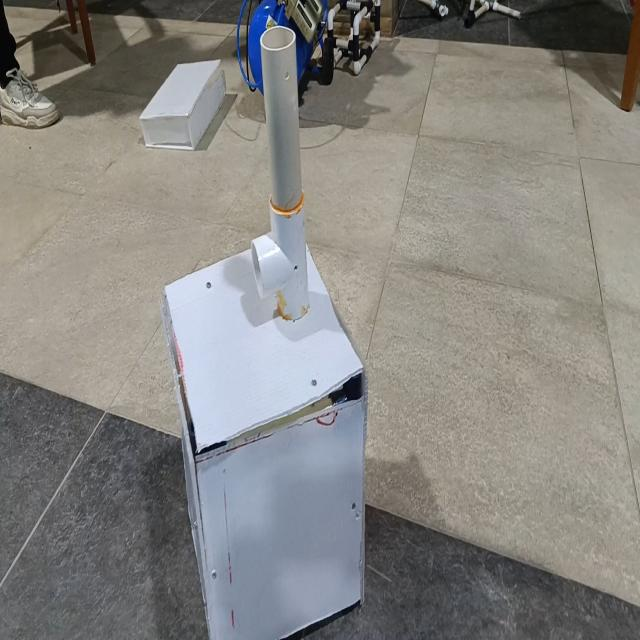Cube: (162, 234, 368, 637)
Cuboid: (139, 57, 226, 150)
